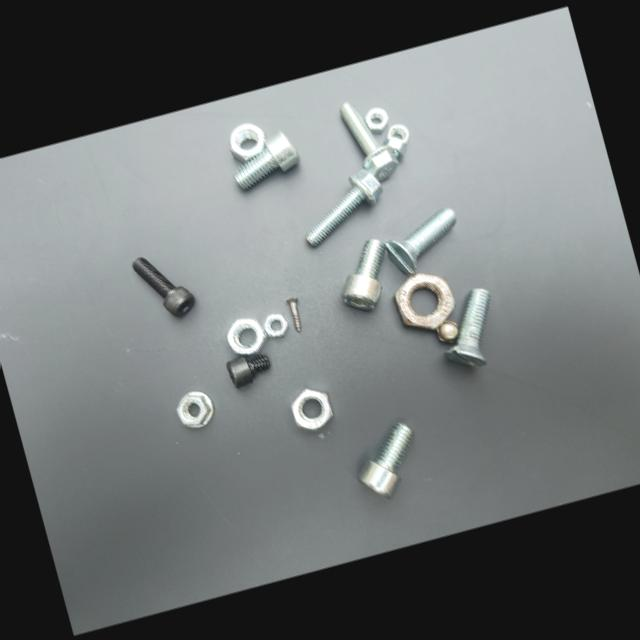bolt: (305, 166, 381, 245), (340, 102, 402, 181), (384, 207, 455, 273), (358, 422, 413, 497), (233, 131, 299, 189), (131, 256, 194, 316), (443, 287, 489, 365), (341, 238, 385, 309), (225, 353, 270, 387), (285, 296, 300, 331)
nuts: (394, 272, 453, 329), (291, 388, 331, 428), (226, 318, 268, 354), (176, 390, 213, 427), (229, 122, 264, 161), (382, 127, 407, 162), (262, 313, 288, 337), (385, 123, 409, 149), (364, 107, 387, 133), (435, 320, 458, 341)
